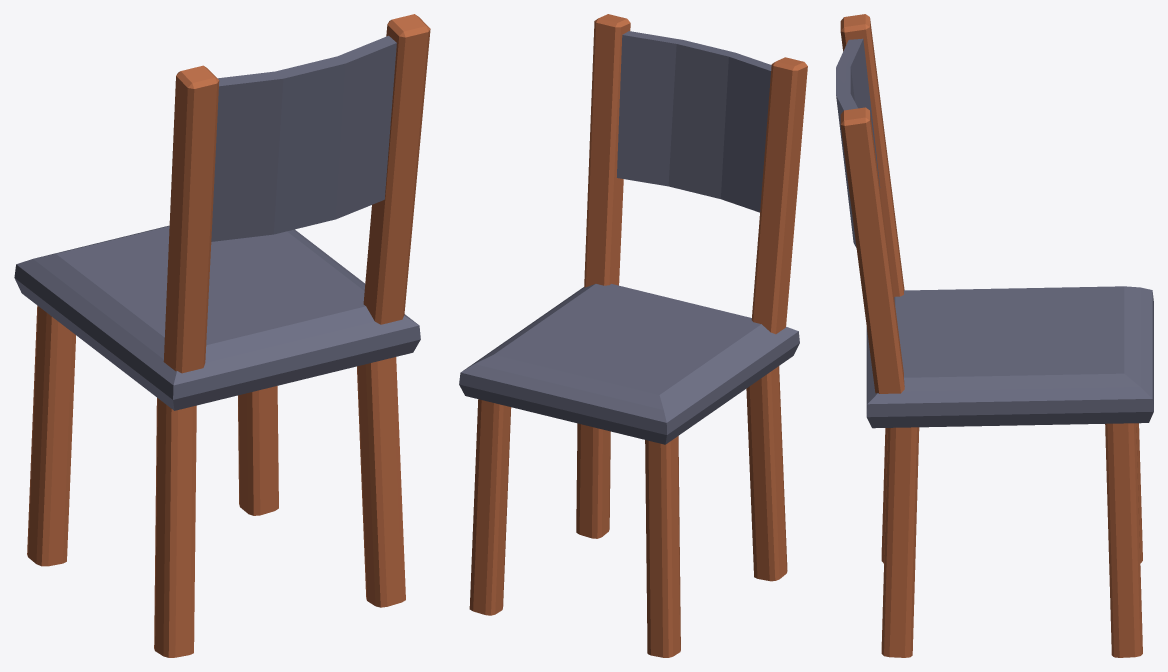
File: Chair3blue.fbx
The picture shows the model from 3 angles, left to right: view 1: azimuth 30°, elevation 25°; view 2: azimuth 150°, elevation 25°; view 3: azimuth 270°, elevation 25°; orthographic projection. The views are drawn at different scales.
Parts seen in each view (by area): view 1: chair 3 blue; view 2: chair 3 blue; view 3: chair 3 blue.
Boxes of the visible parts, x1,y1,x2,y2 form: chair 3 blue: (14, 14, 430, 657); chair 3 blue: (459, 14, 807, 657); chair 3 blue: (836, 14, 1153, 657).
Size of the model in its own units: 135 by 310 by 165.
1 material, 1 textured.
